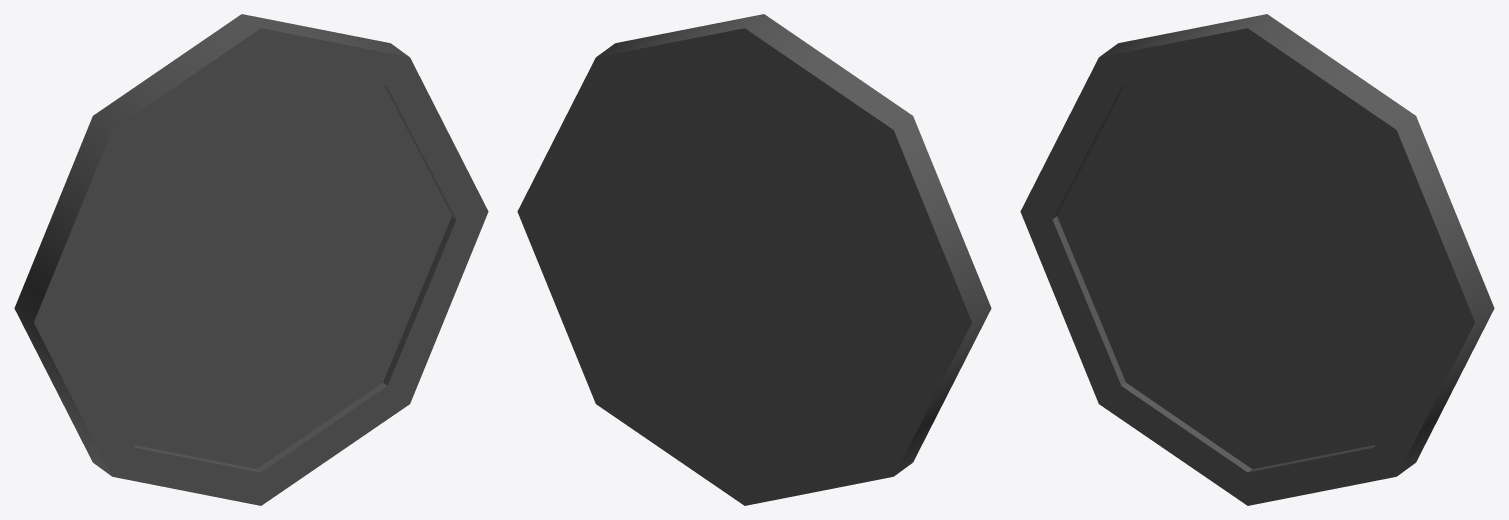
File: Itr_Obj_Frame4_03.FBX
3 renders of one model, left to right at view 1: azimuth 30°, elevation 25°; view 2: azimuth 150°, elevation 25°; view 3: azimuth 330°, elevation 25°, orthographic.
Visible parts, largest first — view 1: Itr_Obj_Frame4_03; view 2: Itr_Obj_Frame4_03; view 3: Itr_Obj_Frame4_03.
Part boxes in pixels (x1,y1,x2,y2): Itr_Obj_Frame4_03: [14, 14, 488, 505]; Itr_Obj_Frame4_03: [517, 14, 991, 505]; Itr_Obj_Frame4_03: [1020, 14, 1494, 505].
Bounding box in the file's own units: 31.46 × 31.59 × 2.32.
